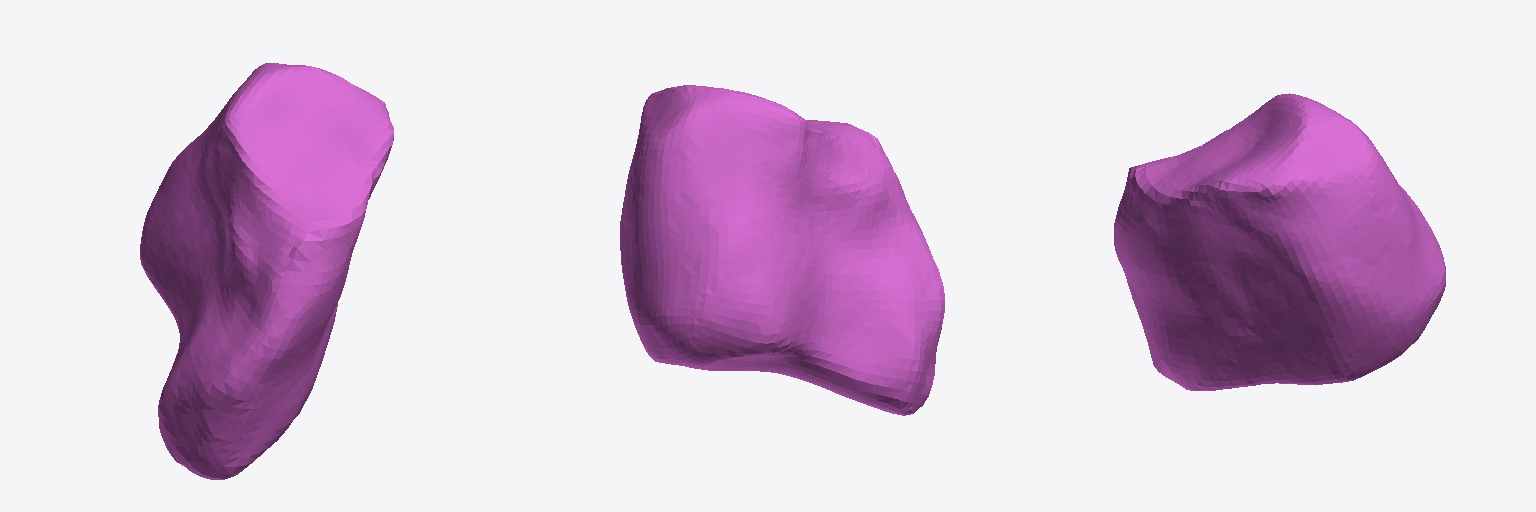
The model's file is Cuniform_Medial.obj.
The picture shows the model from 3 angles: view 1: azimuth 30°, elevation 25°; view 2: azimuth 150°, elevation 25°; view 3: azimuth 270°, elevation 25°; orthographic projection.
Parts seen in each view (by area): view 1: Object_0Cuniform_Medial; view 2: Object_0Cuniform_Medial; view 3: Object_0Cuniform_Medial.
Part boxes in pixels (x1,y1,x2,y2): Object_0Cuniform_Medial: (140, 63, 393, 479); Object_0Cuniform_Medial: (620, 85, 944, 415); Object_0Cuniform_Medial: (1114, 93, 1445, 390).
Bounding box in the file's own units: 30.13 × 39.31 × 35.36.